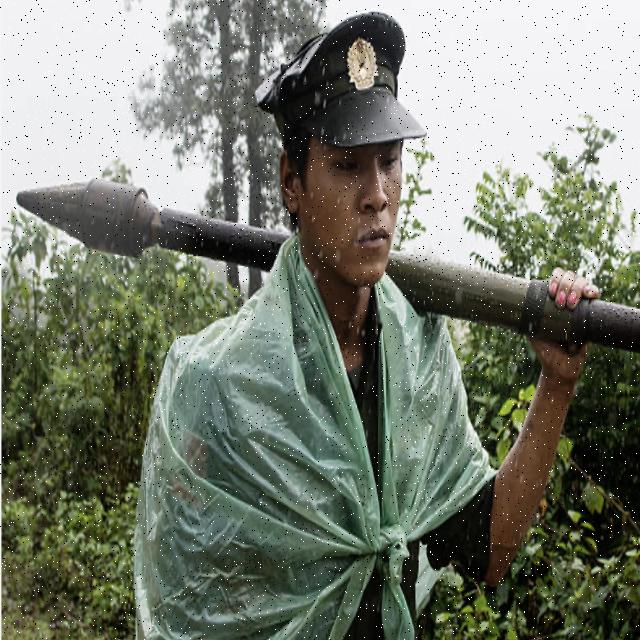bazooka: (9, 163, 636, 372)
